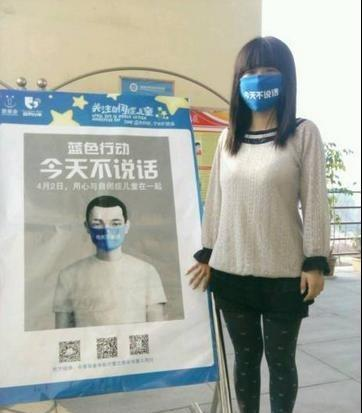OK: (238, 60, 291, 113)
